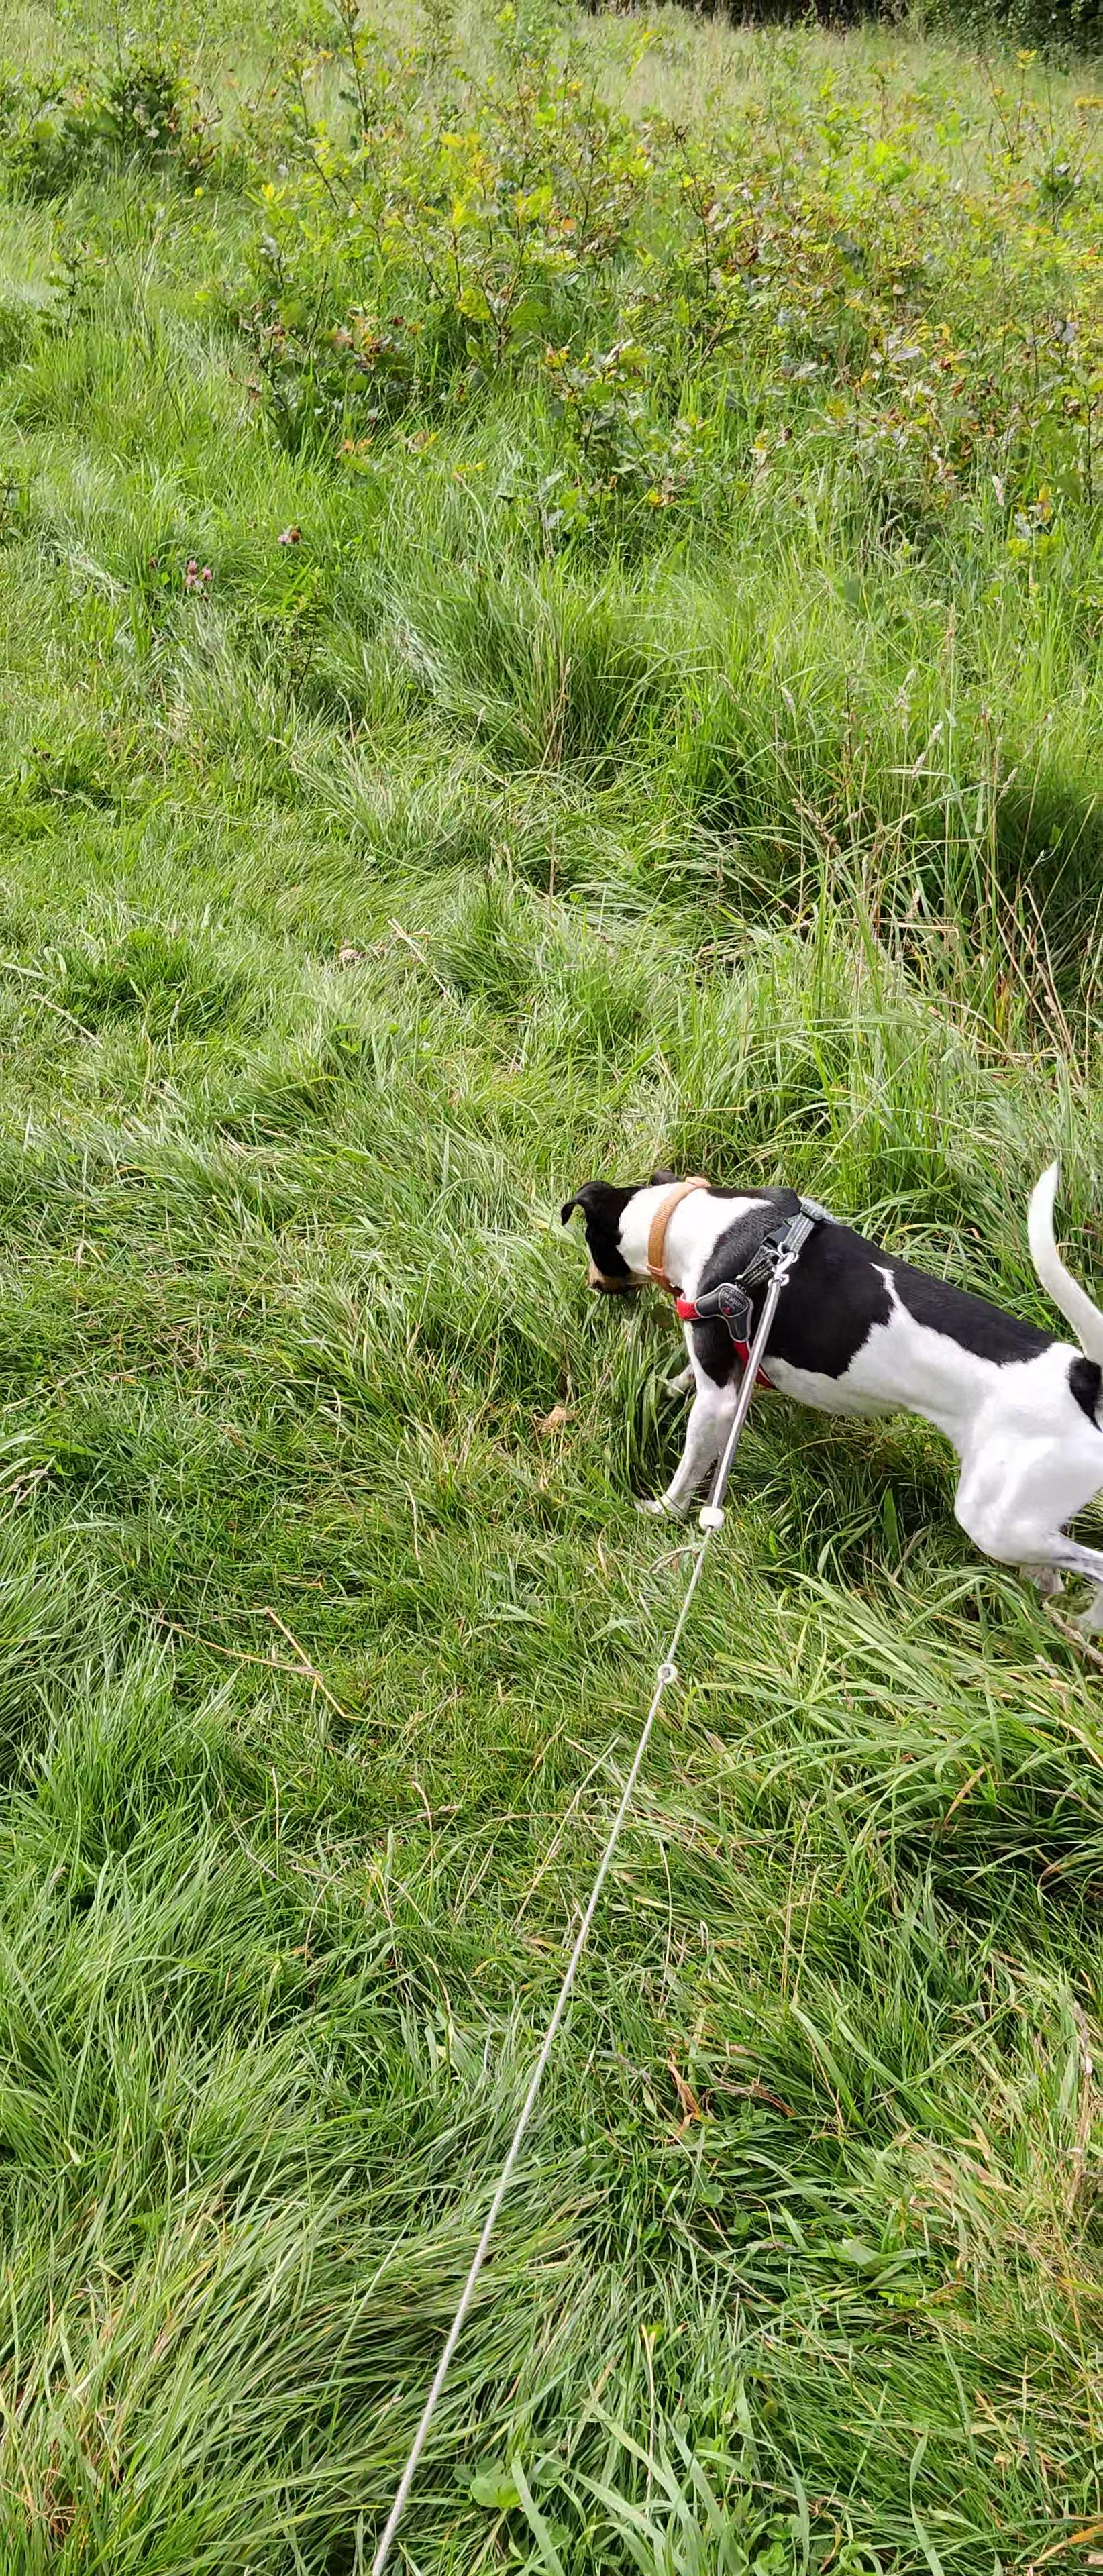Dog: (551, 1143, 1103, 1649)
